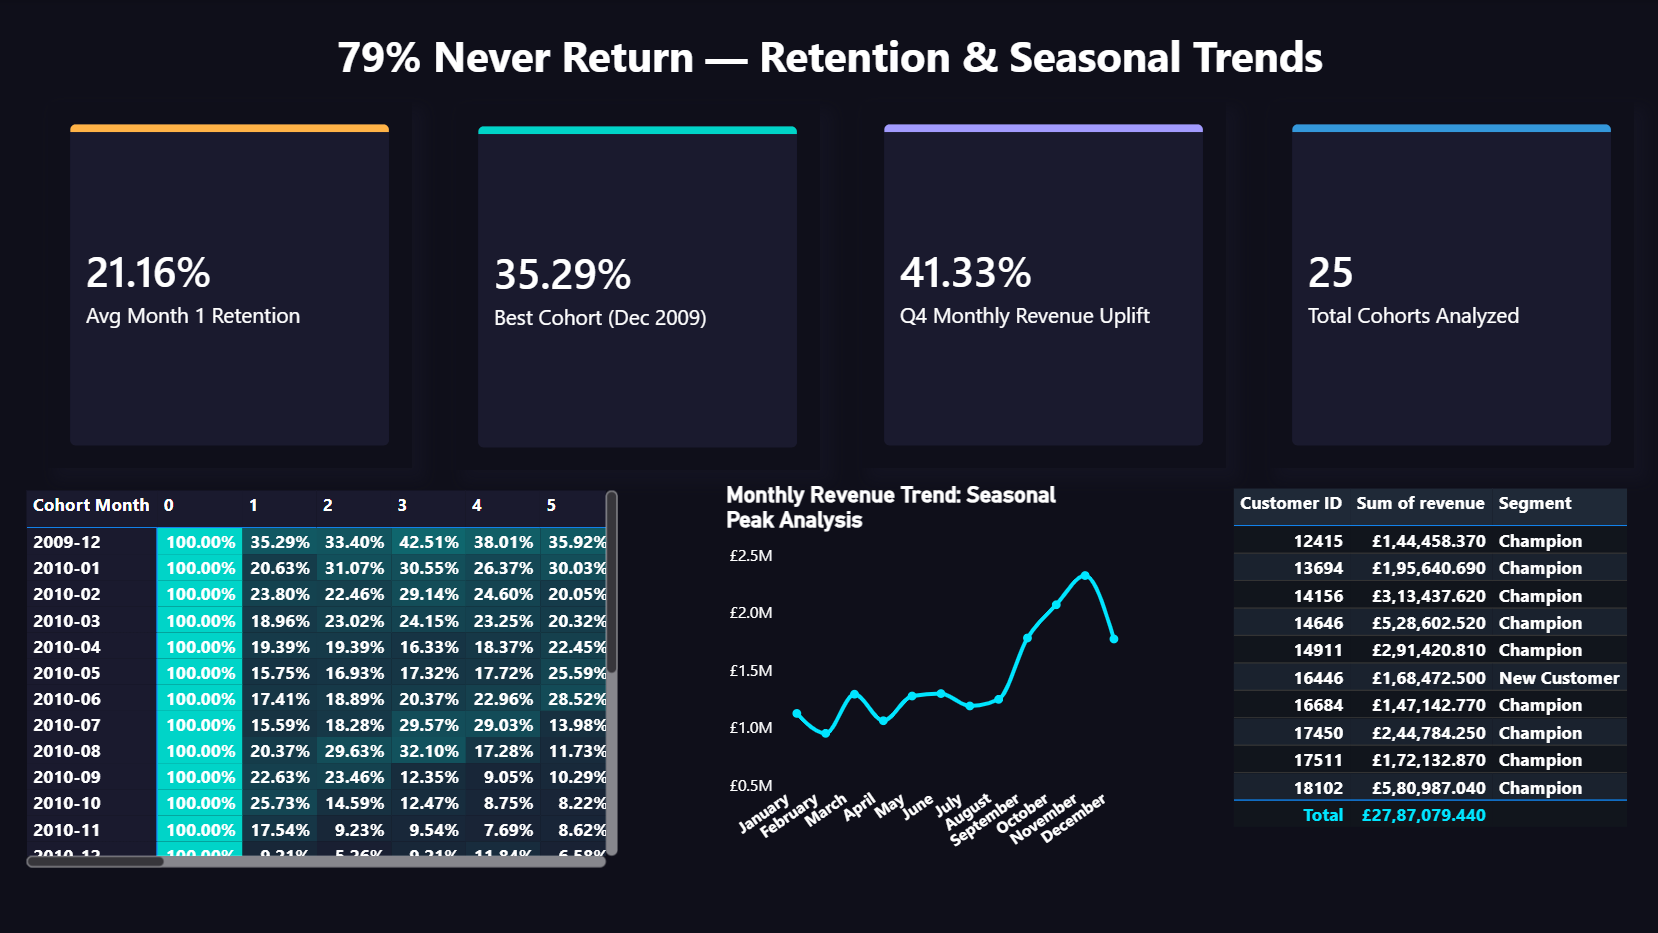

This screenshot's page, from the dashboard's own definition file:
{"tool":"powerbi","page":{"name":"Retention & Trends","canvas":[1280,720],"ordinal":2},"visuals":[{"type":"cardVisual","fields":{"Data":["fact_sales.Avg Month 1 Retention"]},"box":[41.3,79.6,278.7,280.2],"z":0},{"type":"cardVisual","fields":{"Data":["fact_sales.Best Cohort Retention"]},"box":[353.2,81.1,278.7,280.2],"z":1000},{"type":"cardVisual","title":"Total Orders","fields":{"Data":["fact_sales.Q4 Revenue Premium"]},"box":[665,79.6,278.7,280.2],"z":2000},{"type":"cardVisual","fields":{"Data":["fact_sales.Total Cohorts"]},"box":[976.8,79.6,278.7,280.2],"z":3000},{"type":"textbox","box":[0,16.8,1280,128.6],"z":4000},{"type":"pivotTable","fields":{"Columns":["fact_sales.Month Index"],"Rows":["dim_customer.Cohort Month"],"Values":["fact_sales.Retention %"]},"box":[19.9,372.3,462.4,298.6],"z":5000},{"type":"lineChart","title":"Monthly Revenue Trend: Seasonal Peak Analysis","fields":{"Category":["dim_date.date_id.Variation.Date Hierarchy.Year","dim_date.date_id.Variation.Date Hierarchy.Quarter","dim_date.date_id.Variation.Date Hierarchy.Month","dim_date.date_id.Variation.Date Hierarchy.Day"],"Y":["Sum(fact_sales.revenue)"]},"box":[555,370.8,315.4,300.1],"z":6000},{"type":"tableEx","fields":{"Values":["dim_customer.customer_id","Sum(fact_sales.revenue)","rfm_segments.segment"]},"box":[943.2,370.8,312.3,300.1],"z":7000}]}

Visuals, with their boxes in screenshot pixels (x1, y1, x2, y2), scaled from the page's 1280x720 canvas onto the 1658x933 screenshot:
cardVisual - fact_sales.Avg Month 1 Retention: (53,103,414,466)
cardVisual - fact_sales.Best Cohort Retention: (458,105,819,468)
"Total Orders" cardVisual: (861,103,1222,466)
cardVisual - fact_sales.Total Cohorts: (1265,103,1626,466)
textbox: (0,22,1657,188)
pivotTable - fact_sales.Month Index x dim_customer.Cohort Month: (26,482,625,869)
"Monthly Revenue Trend: Seasonal Peak Analysis" lineChart: (719,480,1127,869)
tableEx - dim_customer.customer_id x Sum(fact_sales.revenue): (1222,480,1626,869)
